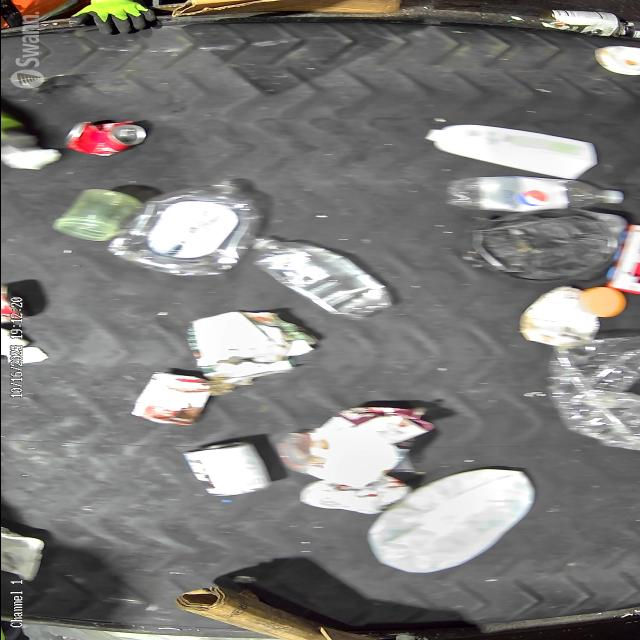can: (181, 440, 273, 498), (128, 372, 212, 426), (59, 118, 150, 158), (532, 8, 620, 37), (614, 19, 640, 39)
milk_jug: (364, 466, 534, 574)
plastic_bottle: (105, 176, 264, 278), (243, 234, 395, 320), (440, 174, 626, 212)
